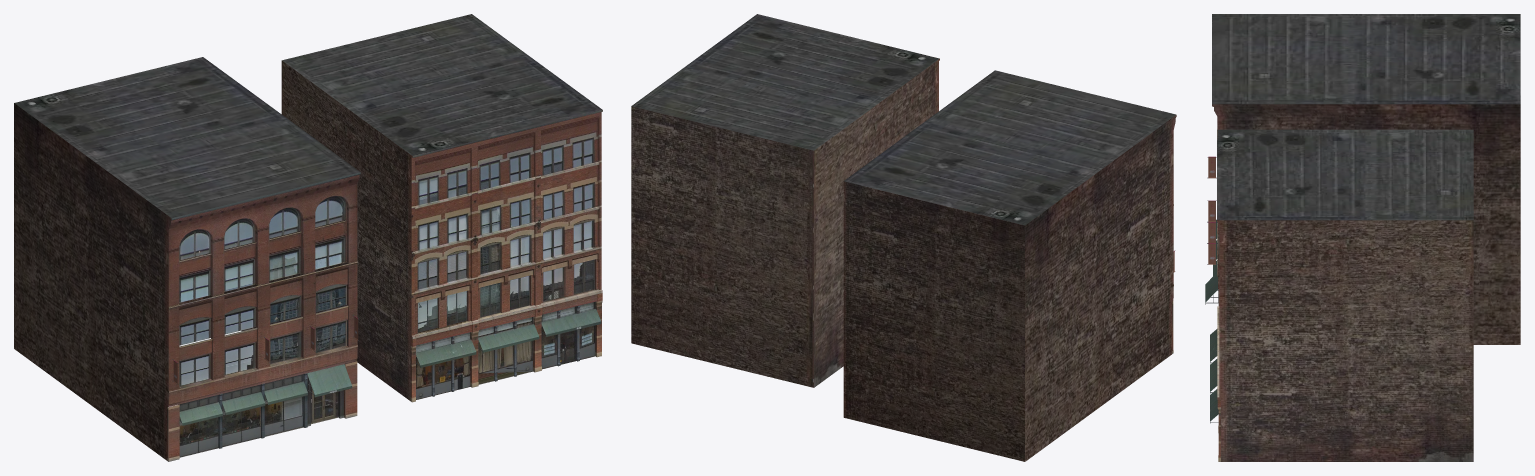
The model's file is city.opt.glb.
The picture shows the model from 3 angles, left to right: view 1: azimuth 30°, elevation 25°; view 2: azimuth 150°, elevation 25°; view 3: azimuth 270°, elevation 25°; orthographic projection. The views are drawn at different scales.
Parts seen in each view (by area): view 1: Building 2_2, Building 1_3; view 2: Building 2_2, Building 1_3; view 3: Building 1_3, Building 2_2.
Boxes of the visible parts, x1,y1,x2,y2 form: Building 2_2: (14,57,360,461); Building 1_3: (281,14,602,402); Building 2_2: (843,70,1176,461); Building 1_3: (631,14,939,387); Building 1_3: (1210,129,1473,461); Building 2_2: (1205,14,1520,344).
Size of the model in its own units: 176 by 95.74 by 113.
Materials: 2 (2 with a texture image).
